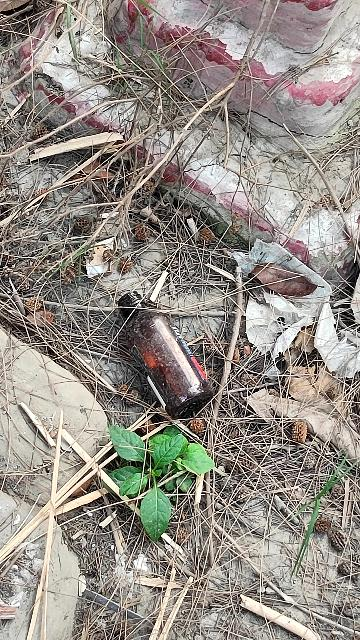bottle: (110, 288, 219, 415)
